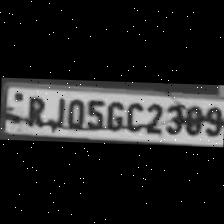0: (64, 95, 84, 130)
2: (140, 99, 164, 134)
3: (162, 100, 182, 134)
5: (84, 96, 104, 131)
8: (180, 100, 202, 136)
9: (200, 101, 222, 136)
C: (124, 98, 142, 131)
G: (103, 96, 123, 132)
J: (43, 93, 62, 129)
R: (20, 92, 46, 126)
